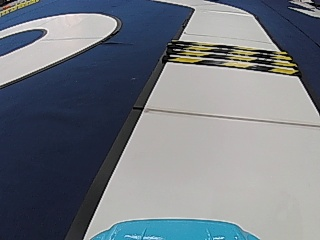bump: (178, 43, 277, 71)
